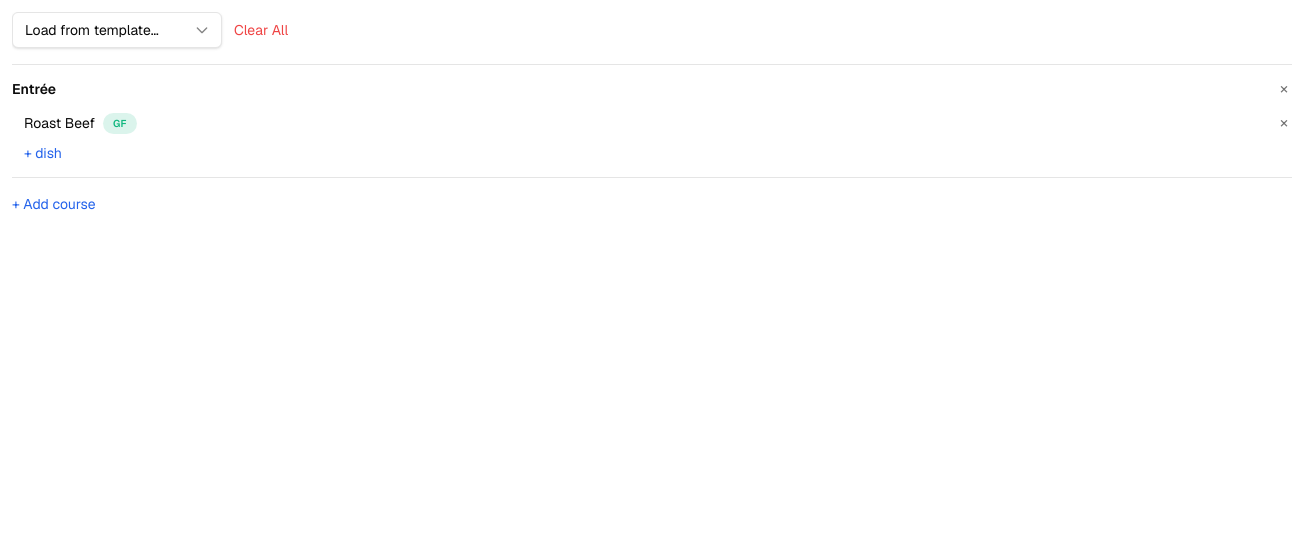
it: MenuBuilder — the course-scoped dish picker (AC8b) › filters by search and by category tab, and greys what's already on
Click the button "+ dish".
click(37, 153)  # box [12,143,62,163]
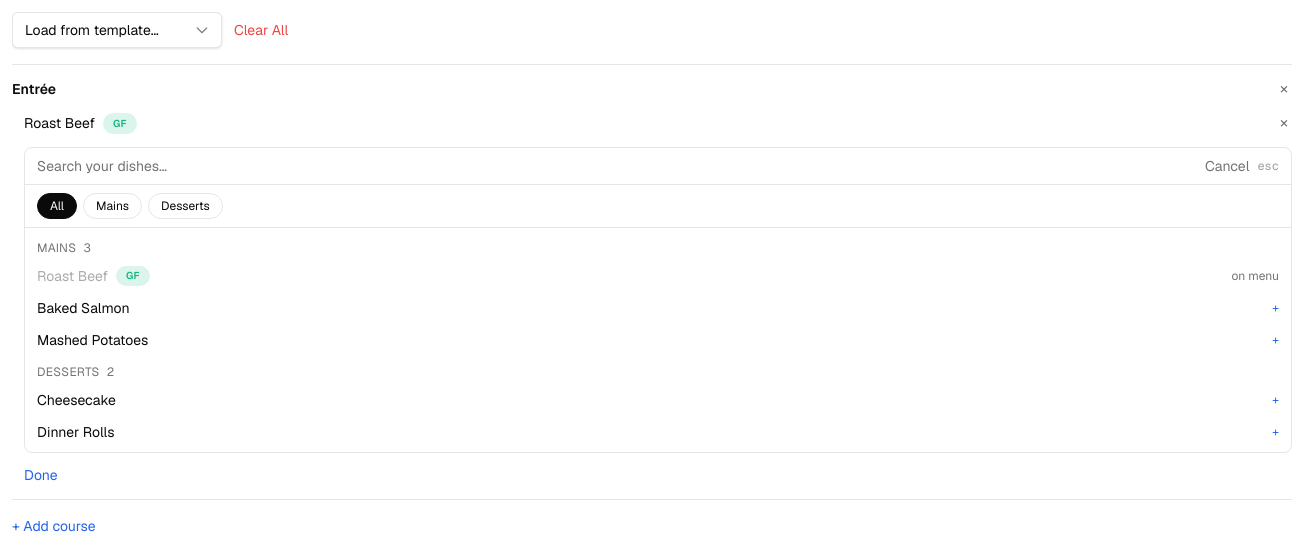
Result: the button labelled "Roast Beef GF on menu" is disabled at [25,260,1291,292]
Click the button "Desserts".
click(185, 206)  # box [148,193,223,219]
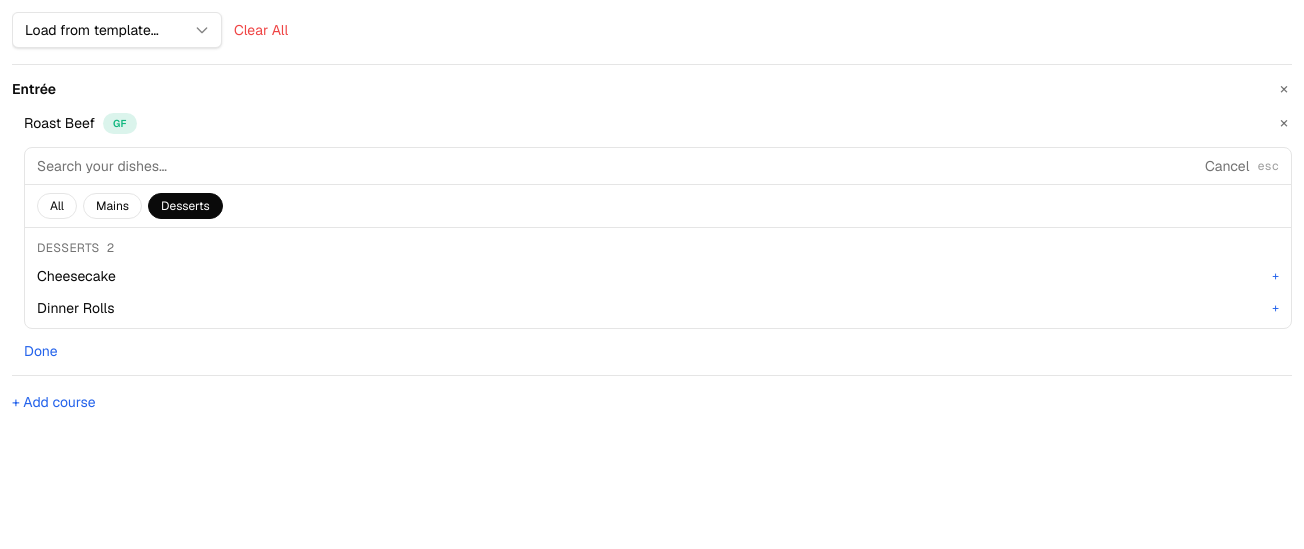
Result: the text "Cheesecake" is shown at [37,266,116,286]
Result: the button "Baked Salmon" is gone
Click the button "All".
click(57, 206)  # box [37,193,77,219]
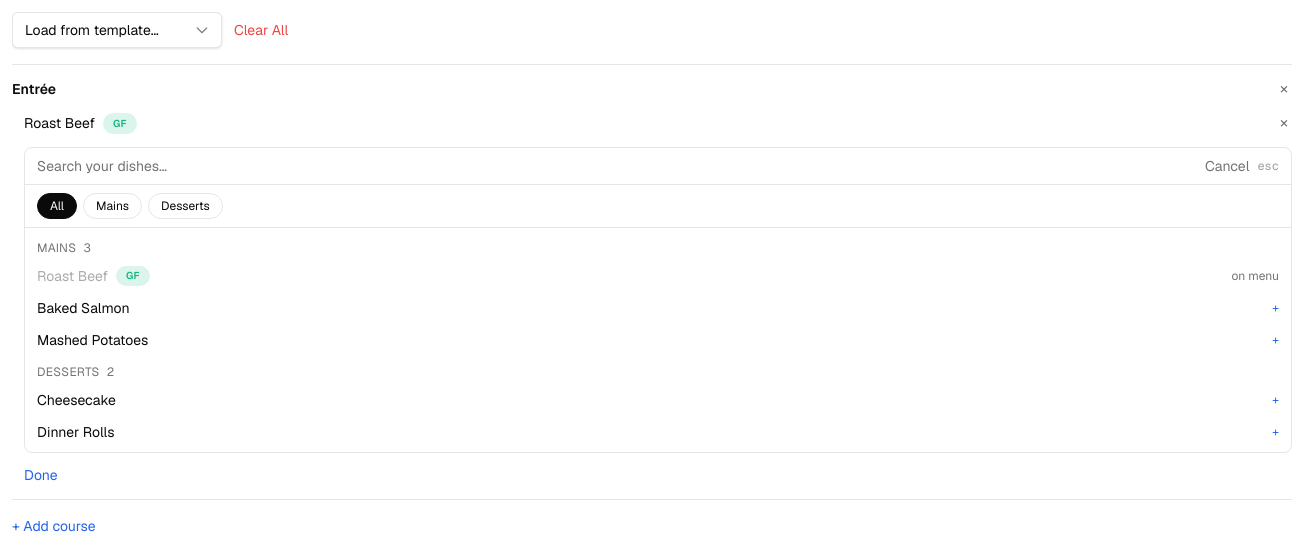
Type "salmon" into the field labelled "Search your dishes".
click(617, 166); type("salmon")  # box [37,156,1197,176]
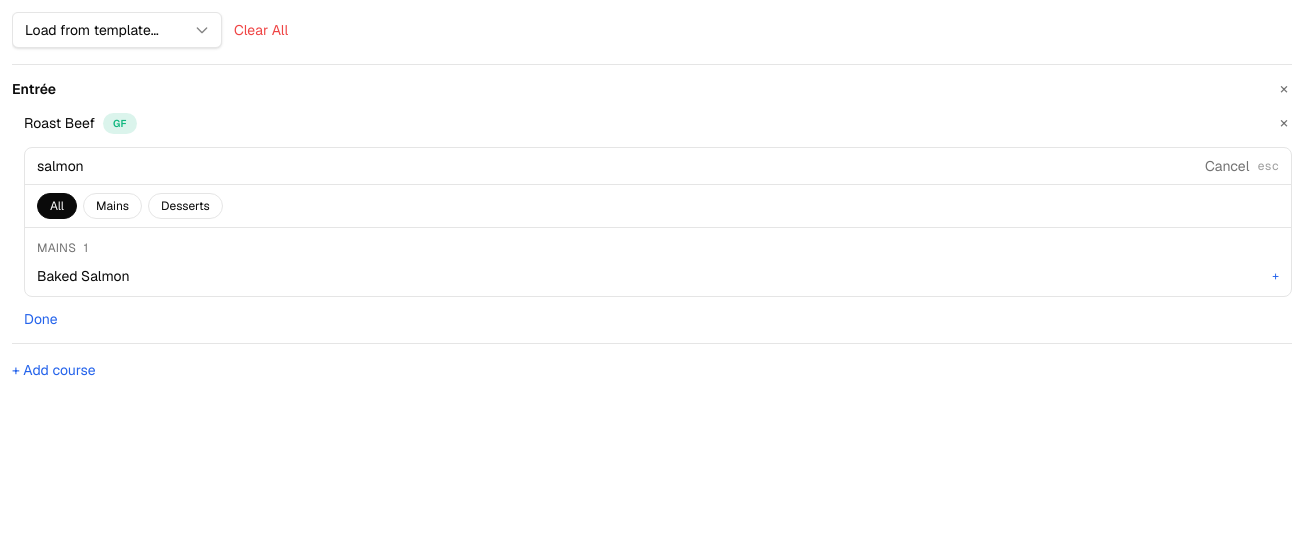
Result: the text "Baked Salmon" is shown at [37,266,130,286]
Result: the button "Cheesecake" is gone
